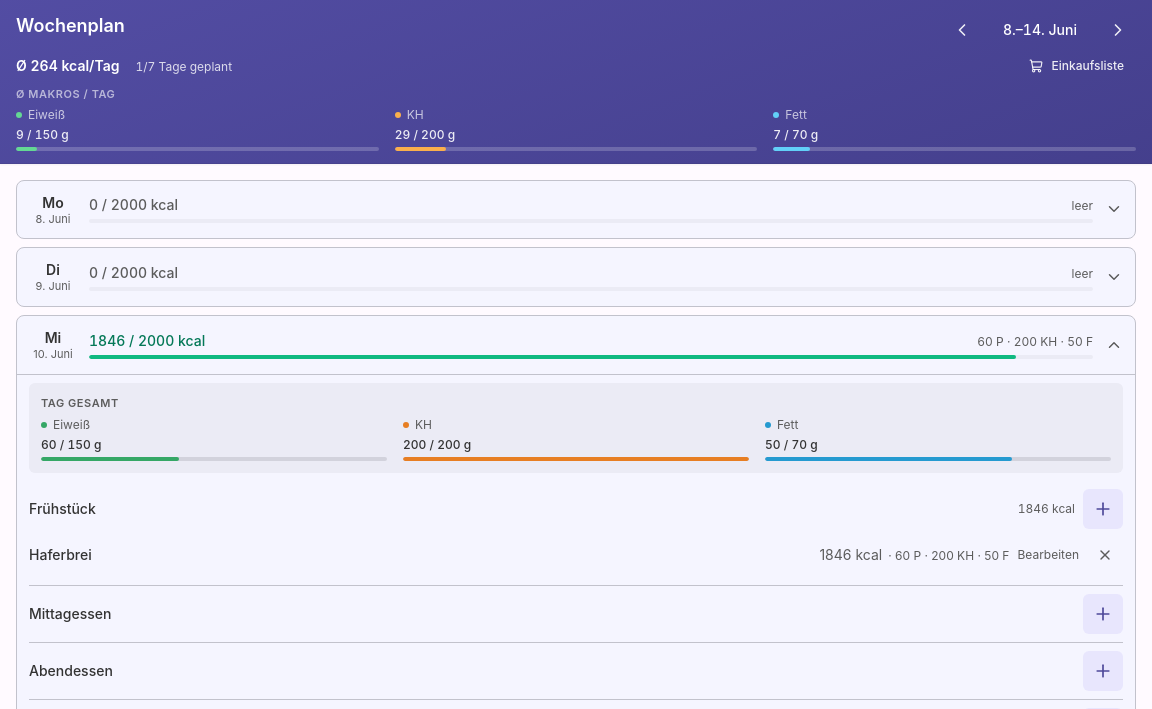
Test: PlannerScreen › advances to the next week when the next-week control is used
The width and height of the screenshot is (1152, 709).
Expected: the text "8.–14. Juni" is shown, [1003, 21, 1077, 38]
Step 1. Click the button named "nächste woche" → click(1118, 30), box [1100, 12, 1136, 48]
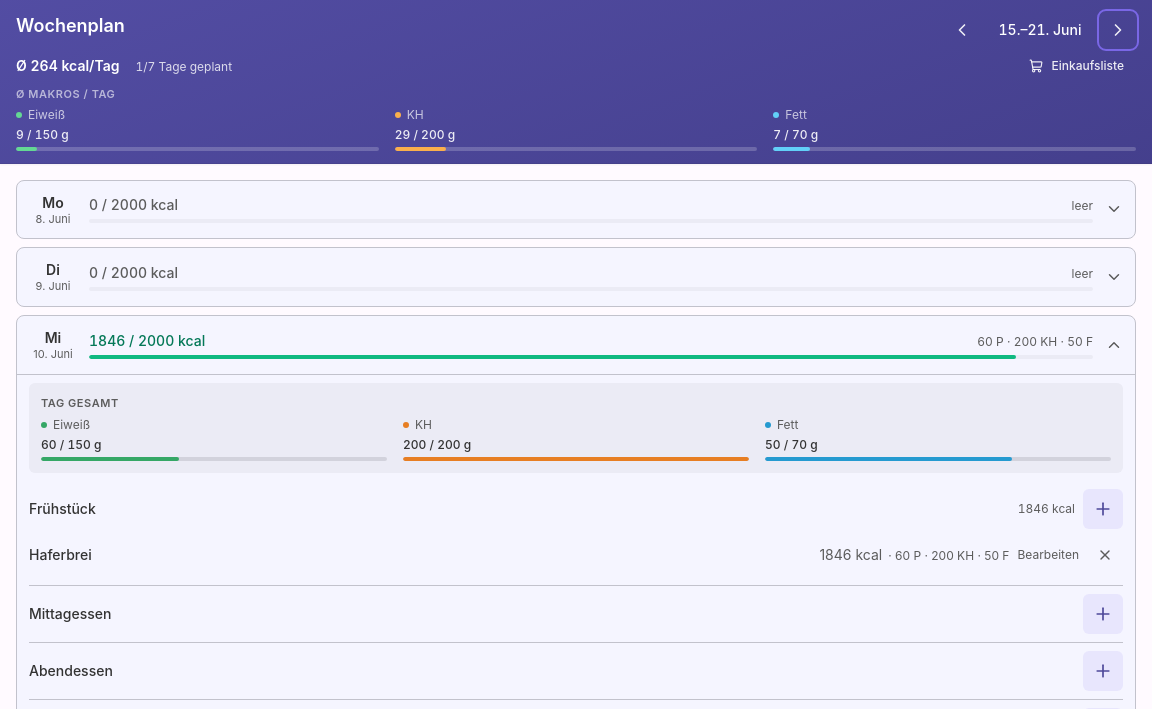
Expected: the text "15.–21. Juni" is shown, [998, 21, 1082, 38]
